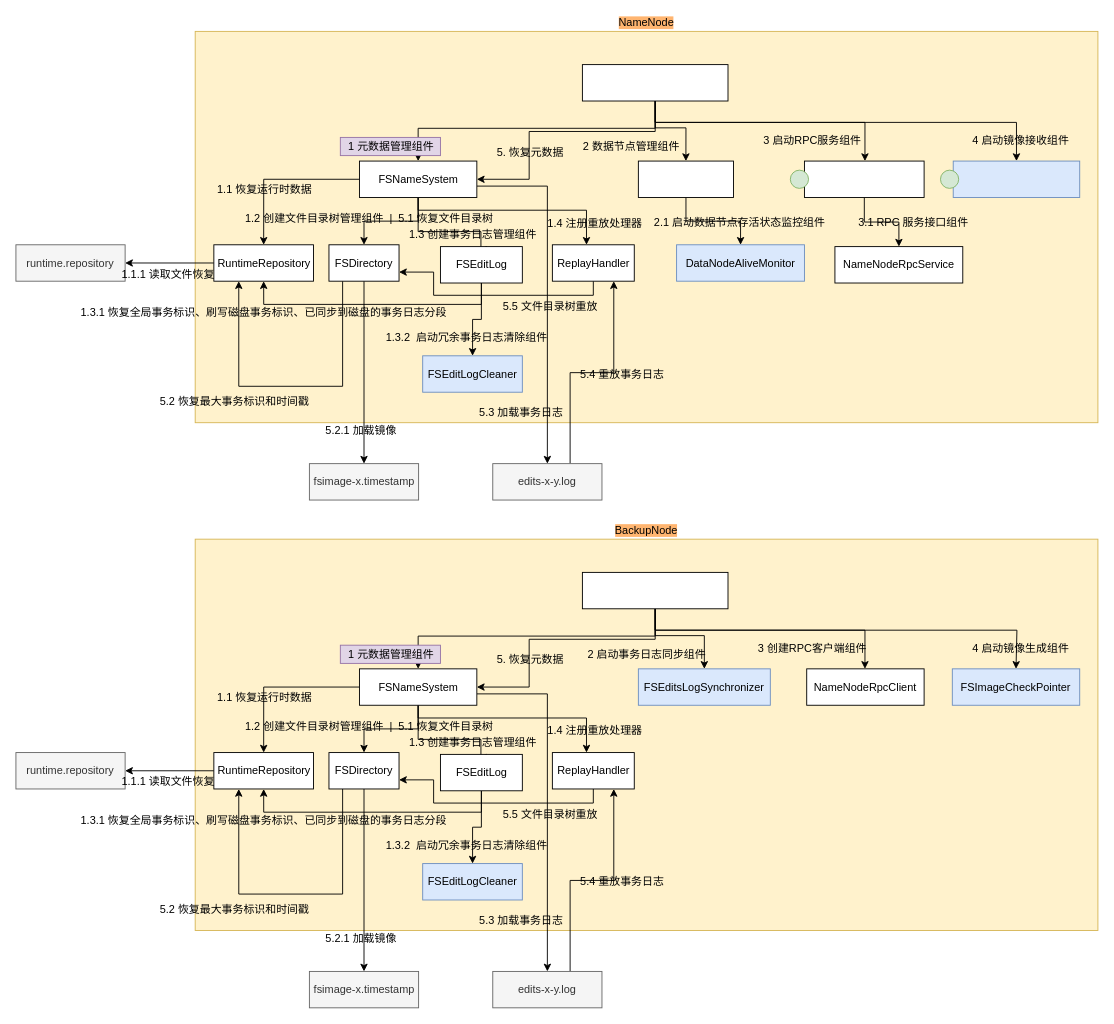
Image size: 1114x1024. Some labels were removed from this diagram. The shapes that lost their labels are listed below. From the top down, each one's centre as x and y in pixels, then its label:
point 654,82: NameNodeServer
point 685,178: DataNodeManager
point 864,178: NameNodeRpcServer
point 1016,178: FSImageUploadServer
point 654,590: BackupNodeServer
